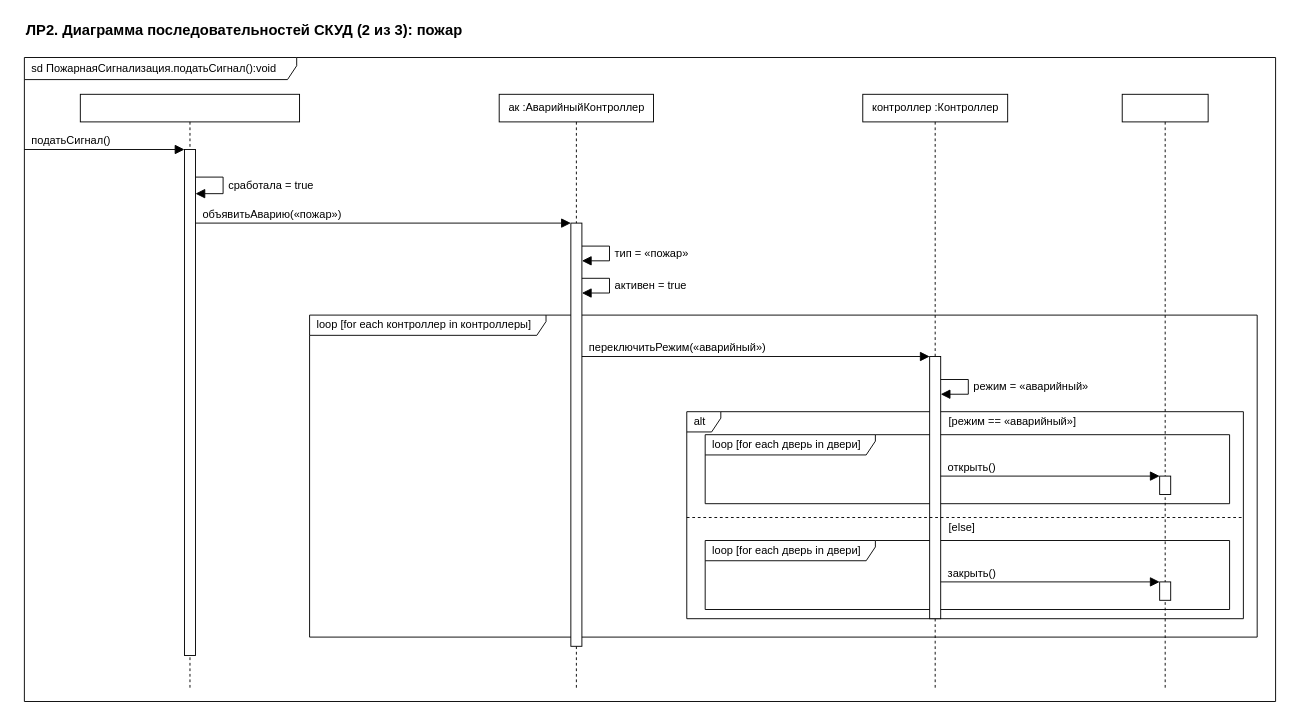
Some shapes in this 1292 by 718 pixel diagram are drawn without their labels. Each missing label, with the centre of its shape:
"дверь :Дверь" belongs at [1164,107].
"сигнализация :ПожарнаяСигнализация" belongs at [189,107].
